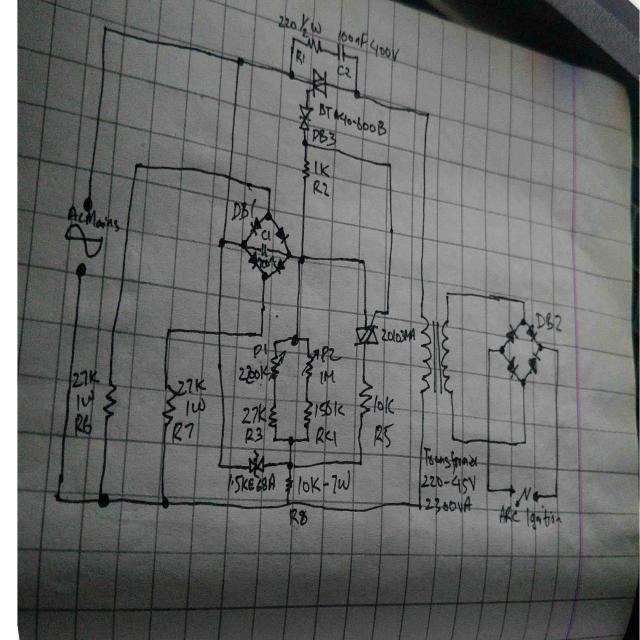capacitor: (336, 42, 345, 64), (260, 242, 268, 257)
crossover: (213, 322, 225, 345), (482, 431, 494, 454), (223, 168, 235, 190)
diode: (248, 448, 266, 479), (298, 102, 314, 132), (505, 354, 519, 380), (527, 351, 541, 376), (276, 224, 290, 244), (248, 250, 262, 270), (505, 323, 518, 344), (250, 215, 261, 237), (526, 323, 538, 343), (272, 258, 286, 274)
junction: (95, 490, 108, 509), (163, 324, 172, 339), (264, 208, 273, 223), (161, 496, 170, 511), (215, 458, 224, 473), (270, 432, 279, 447), (287, 432, 296, 447), (53, 490, 62, 505), (285, 249, 294, 263), (303, 432, 312, 446), (285, 458, 294, 472), (100, 20, 108, 35), (236, 53, 244, 68), (132, 159, 140, 174), (217, 234, 225, 249), (265, 182, 273, 197), (240, 237, 248, 252), (297, 251, 305, 266), (284, 496, 292, 511), (261, 270, 269, 284), (291, 332, 299, 346), (256, 327, 264, 341), (271, 335, 279, 349), (372, 305, 380, 319), (423, 108, 431, 122), (383, 305, 391, 318), (536, 339, 544, 352), (385, 160, 393, 173), (301, 136, 309, 149), (359, 255, 366, 269), (306, 85, 313, 99), (288, 68, 295, 82), (356, 458, 364, 470), (415, 501, 423, 513), (448, 432, 456, 444), (485, 345, 493, 357), (519, 314, 527, 326), (552, 488, 560, 500), (304, 333, 311, 346), (291, 33, 298, 46), (484, 482, 491, 494), (521, 435, 528, 447), (519, 376, 526, 388), (498, 344, 505, 356), (554, 344, 561, 356), (519, 296, 526, 308), (443, 288, 450, 300), (353, 88, 360, 100), (354, 53, 360, 64)
resistor: (161, 382, 177, 428), (300, 348, 320, 383), (102, 378, 117, 421), (358, 376, 373, 417), (268, 349, 286, 381), (303, 397, 313, 431), (306, 36, 323, 54), (268, 404, 277, 429), (301, 157, 310, 180), (284, 474, 294, 494)
terminal: (82, 192, 95, 215), (74, 260, 88, 280), (532, 489, 540, 506), (507, 482, 515, 495)
text: (420, 445, 478, 514), (318, 102, 388, 137), (171, 376, 208, 442), (337, 29, 400, 62), (72, 368, 100, 437), (499, 503, 562, 530), (67, 204, 120, 233), (298, 468, 350, 495), (227, 470, 275, 494), (278, 12, 322, 38), (242, 402, 268, 442), (312, 159, 330, 199), (238, 363, 270, 384), (231, 197, 257, 221), (381, 326, 415, 344), (373, 422, 394, 449), (535, 311, 562, 332), (314, 400, 344, 418), (315, 425, 338, 448), (312, 127, 336, 146), (373, 395, 395, 414), (321, 345, 342, 363), (288, 507, 308, 525), (319, 367, 335, 385), (252, 342, 268, 359), (336, 64, 352, 80), (258, 255, 276, 268), (295, 48, 306, 65), (261, 228, 271, 242)
thyristor: (353, 318, 379, 348), (309, 66, 328, 100)
transformer: (418, 312, 454, 398)
